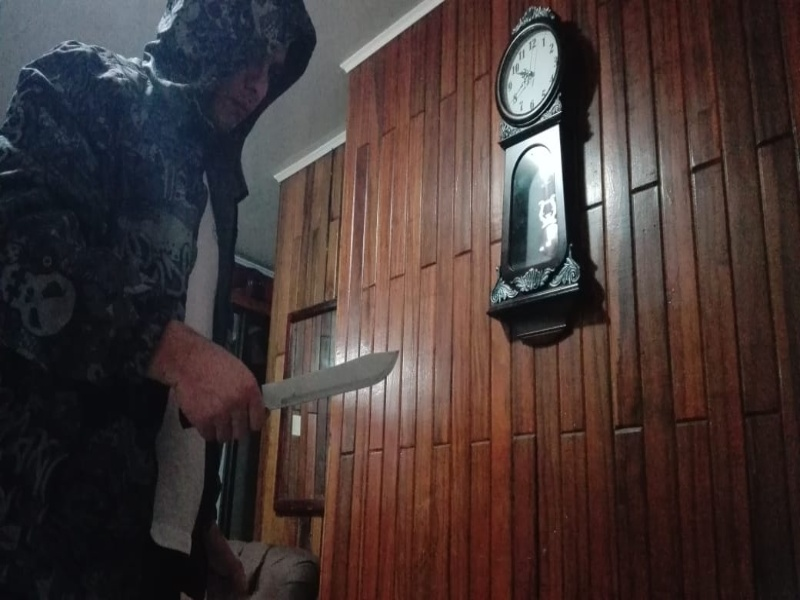bonnet: (146, 1, 317, 128)
hand: (169, 321, 266, 445)
knife: (260, 350, 399, 411)
person: (1, 2, 319, 600)
